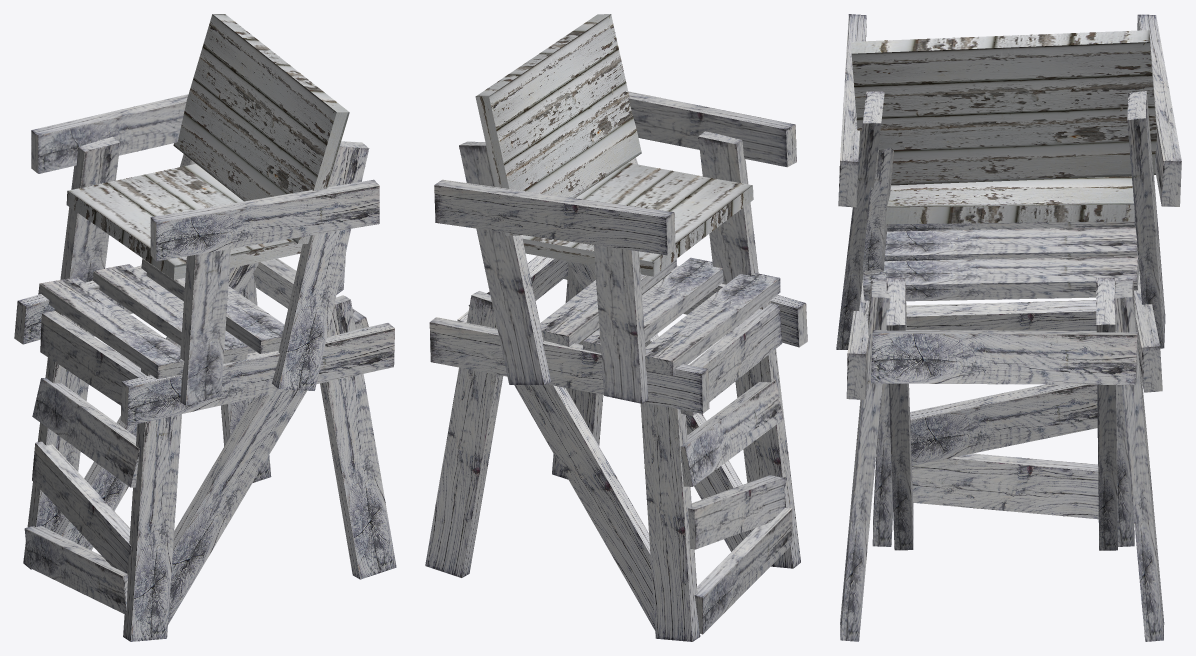
The model's file is LifeGuardChair.obj.
The picture shows the model from 3 angles, left to right: view 1: azimuth 30°, elevation 25°; view 2: azimuth 150°, elevation 25°; view 3: azimuth 270°, elevation 25°; orthographic projection. The views are drawn at different scales.
Visible parts, largest first — view 1: LifeGuardT1; view 2: LifeGuardT1; view 3: LifeGuardT1.
Boxes of the visible parts, x1,y1,x2,y2 form: LifeGuardT1: (14, 14, 396, 641); LifeGuardT1: (425, 14, 807, 641); LifeGuardT1: (836, 14, 1181, 641).
Size of the model in its own units: 622 by 1131 by 580.
